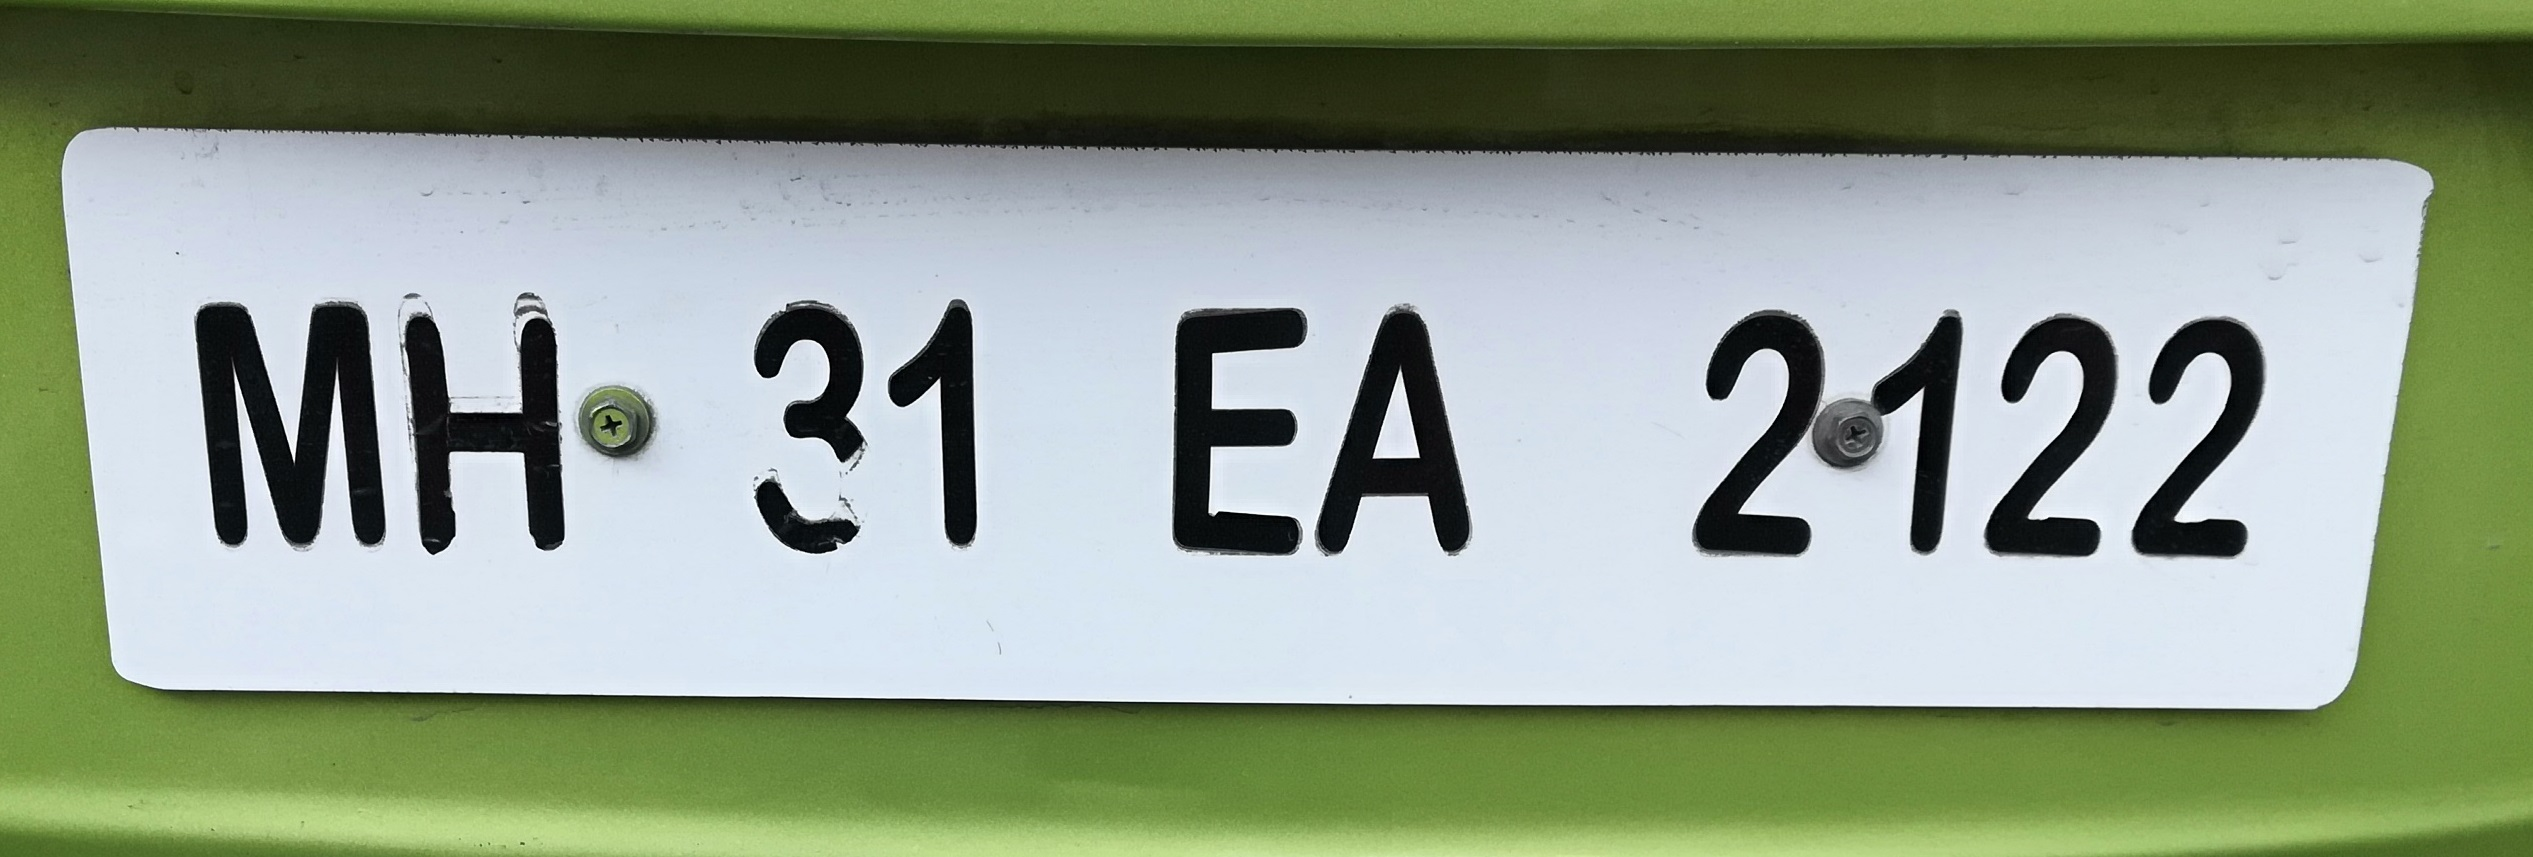numberplate: (48, 110, 2430, 728)
